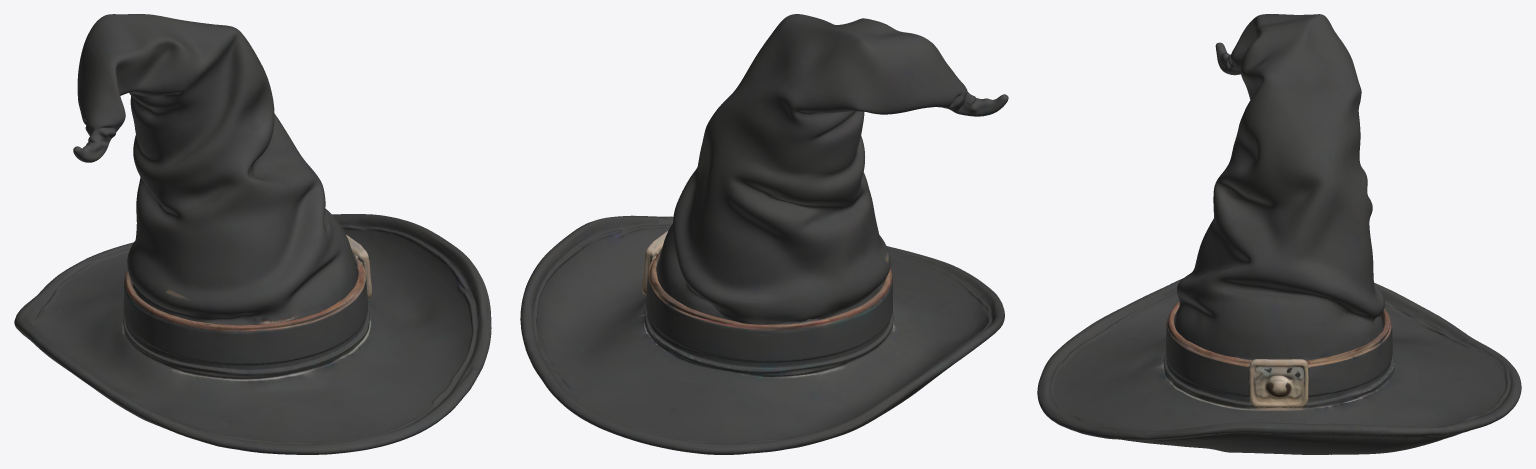
File: detailed_realistic_model_sortinghat_11.glb
The picture shows the model from 3 angles, left to right: view 1: azimuth 30°, elevation 25°; view 2: azimuth 150°, elevation 25°; view 3: azimuth 270°, elevation 25°; orthographic projection. The views are drawn at different scales.
Visible parts, largest first — view 1: tripo_node_177bbe8b-8603-4193-ba69-11a8246cef26; view 2: tripo_node_177bbe8b-8603-4193-ba69-11a8246cef26; view 3: tripo_node_177bbe8b-8603-4193-ba69-11a8246cef26.
Part boxes in pixels (x1=…): tripo_node_177bbe8b-8603-4193-ba69-11a8246cef26: x1=14, y1=14, x2=491, y2=454; tripo_node_177bbe8b-8603-4193-ba69-11a8246cef26: x1=520, y1=14, x2=1008, y2=454; tripo_node_177bbe8b-8603-4193-ba69-11a8246cef26: x1=1037, y1=14, x2=1521, y2=454.
Size of the model in its own units: 0.9041 by 0.7539 by 1.
1 material, 1 textured.
